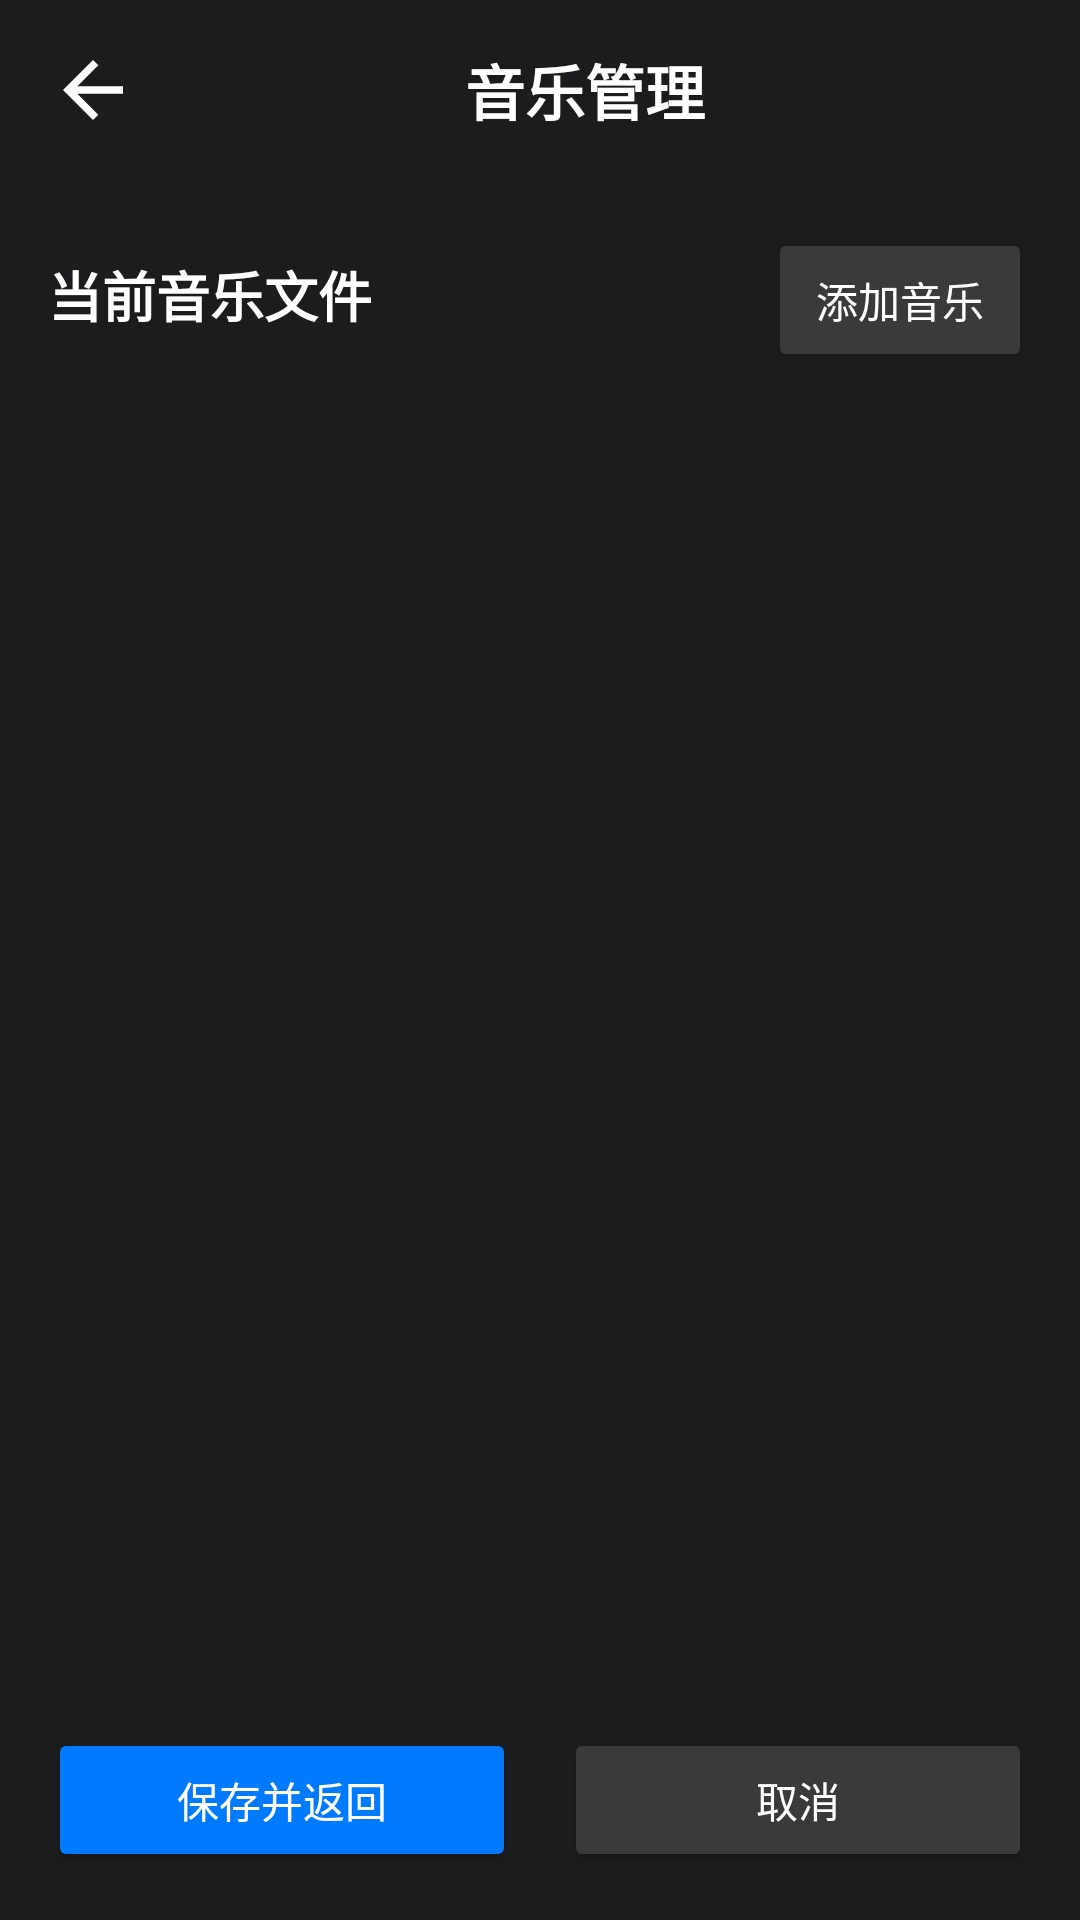

Named icons in this screenshot (1080px×1920px) and their centers, (x=x, y=y):
返回: (x=93, y=90)
